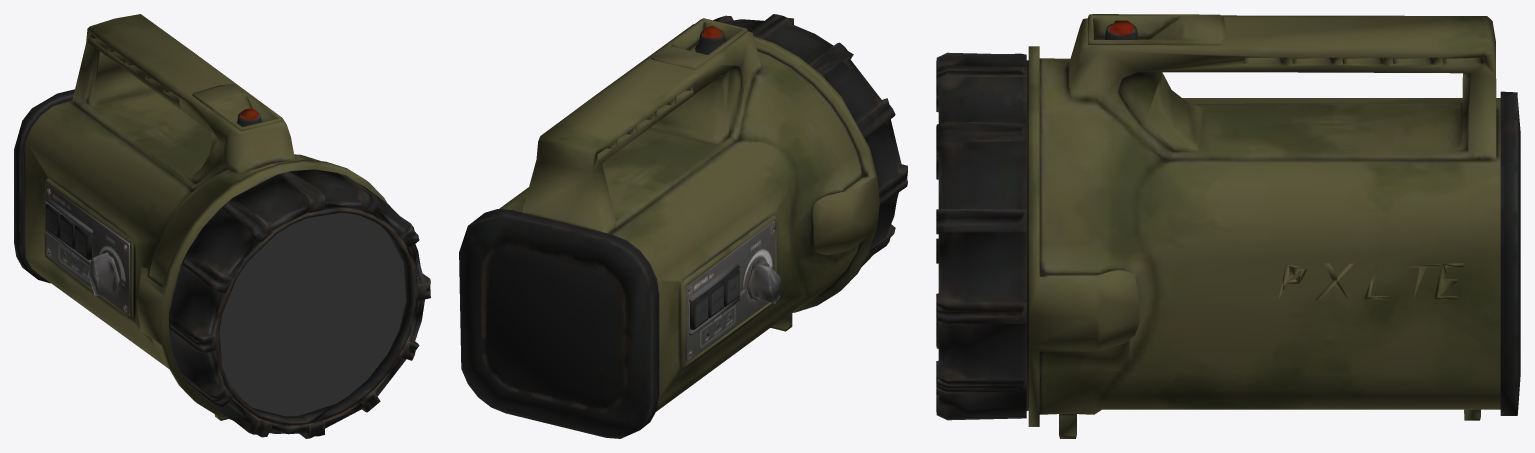
The model's file is searchlight.glb.
3 views of the same model, side by side, from view 1: azimuth 30°, elevation 25°; view 2: azimuth 150°, elevation 25°; view 3: azimuth 270°, elevation 25° (orthographic). The views are drawn at different scales.
Parts seen in each view (by area): view 1: portable_searchlight; view 2: portable_searchlight; view 3: portable_searchlight.
Boxes of the visible parts, x1,y1,x2,y2 form: portable_searchlight: (14,14,430,438); portable_searchlight: (459,14,907,438); portable_searchlight: (936,14,1520,438).
Size of the model in its own units: 0.1653 by 0.1849 by 0.2534.
2 materials, 2 textured.
